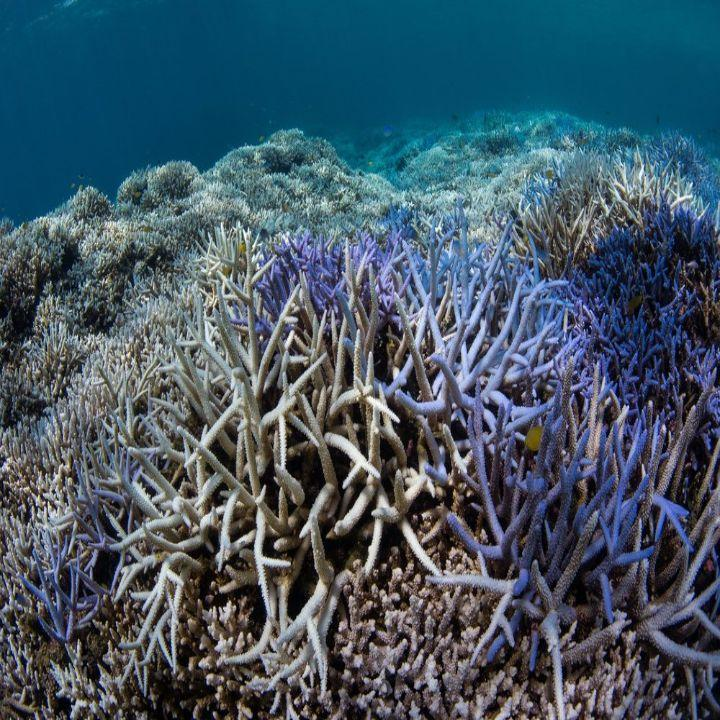Bleached disease: (89, 271, 442, 703)
